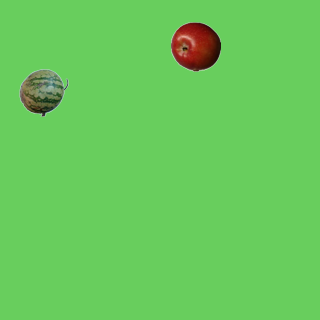Apple Braeburn: (170, 21, 220, 71)
Watermelon: (18, 67, 68, 117)
